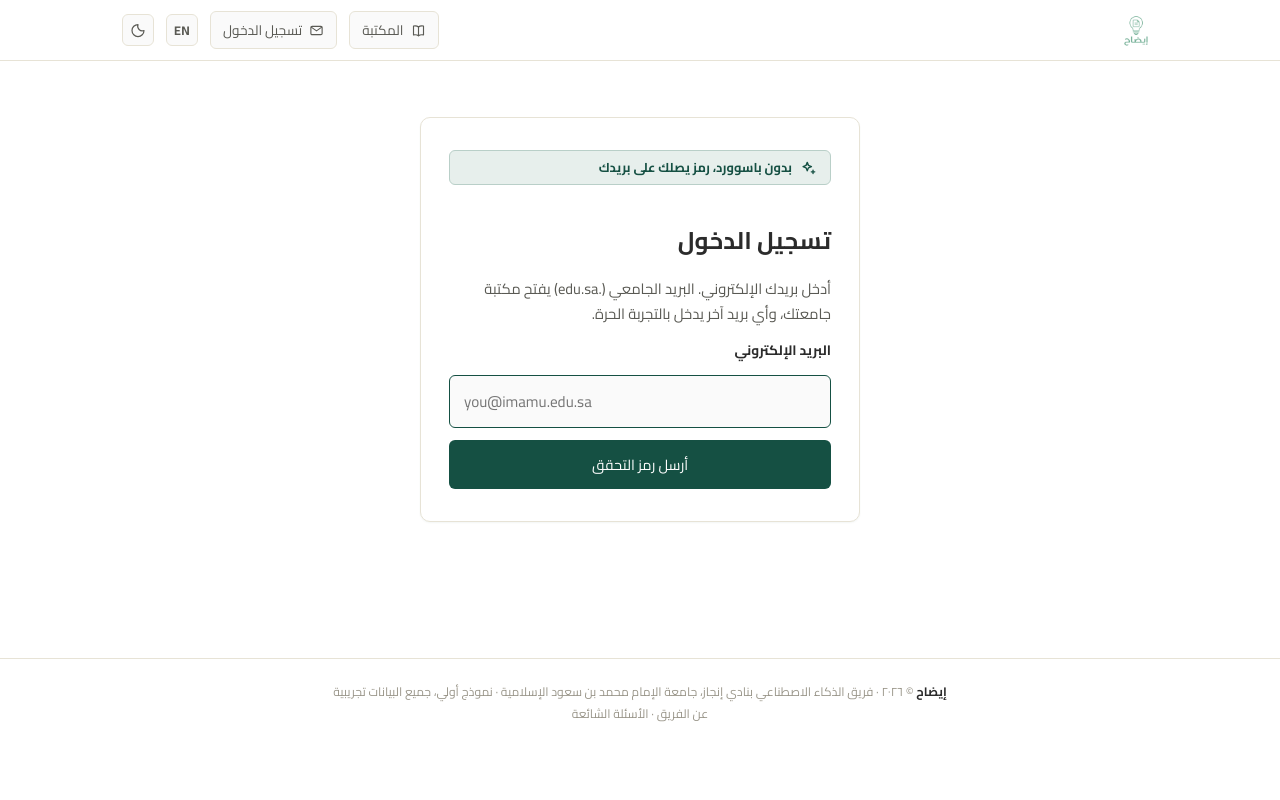
it: إرسال الإيميل ينقل لخطوة الرمز ويظهر تنبيه الإرسال
Type "student@imamu.edu.sa" into the field labelled "البريد الإلكتروني" at point(640, 401), box [449, 375, 831, 428]
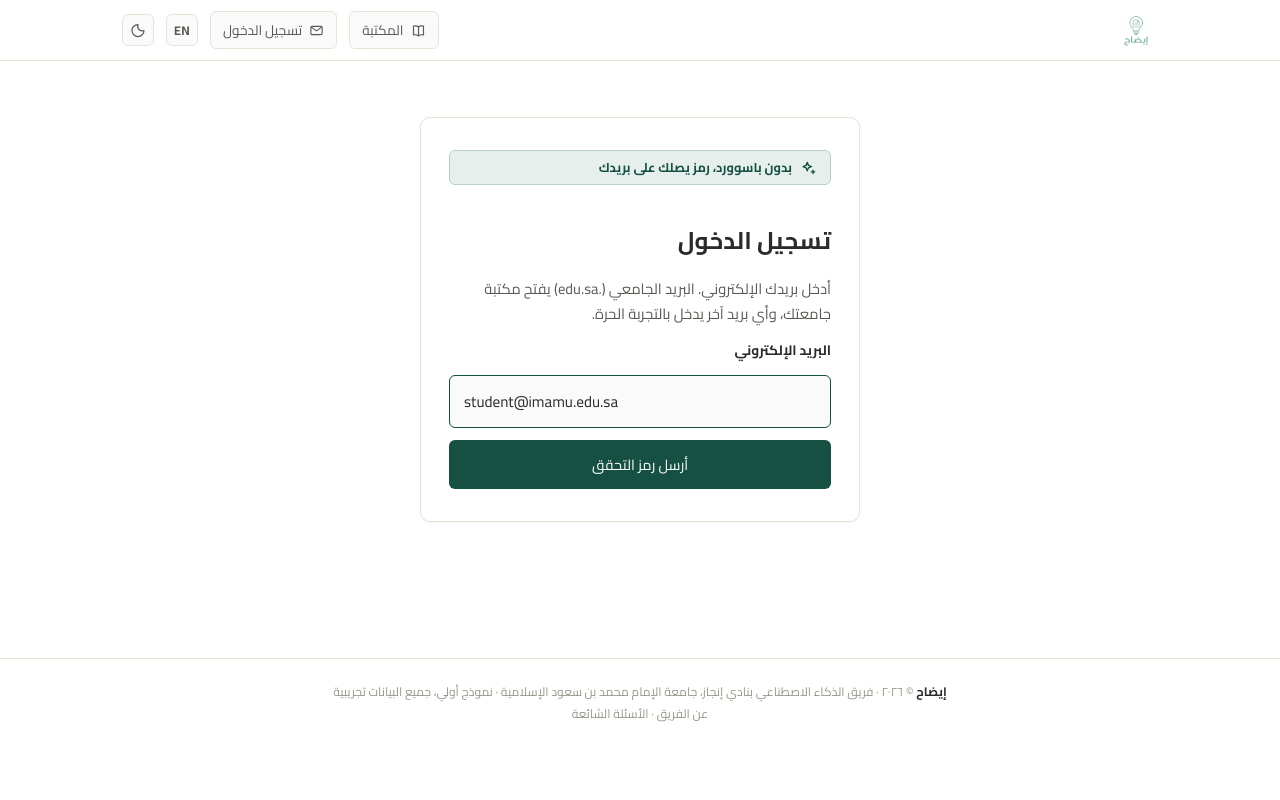
Click the button "أرسل رمز التحقق" at point(640, 464), box [449, 440, 831, 489]
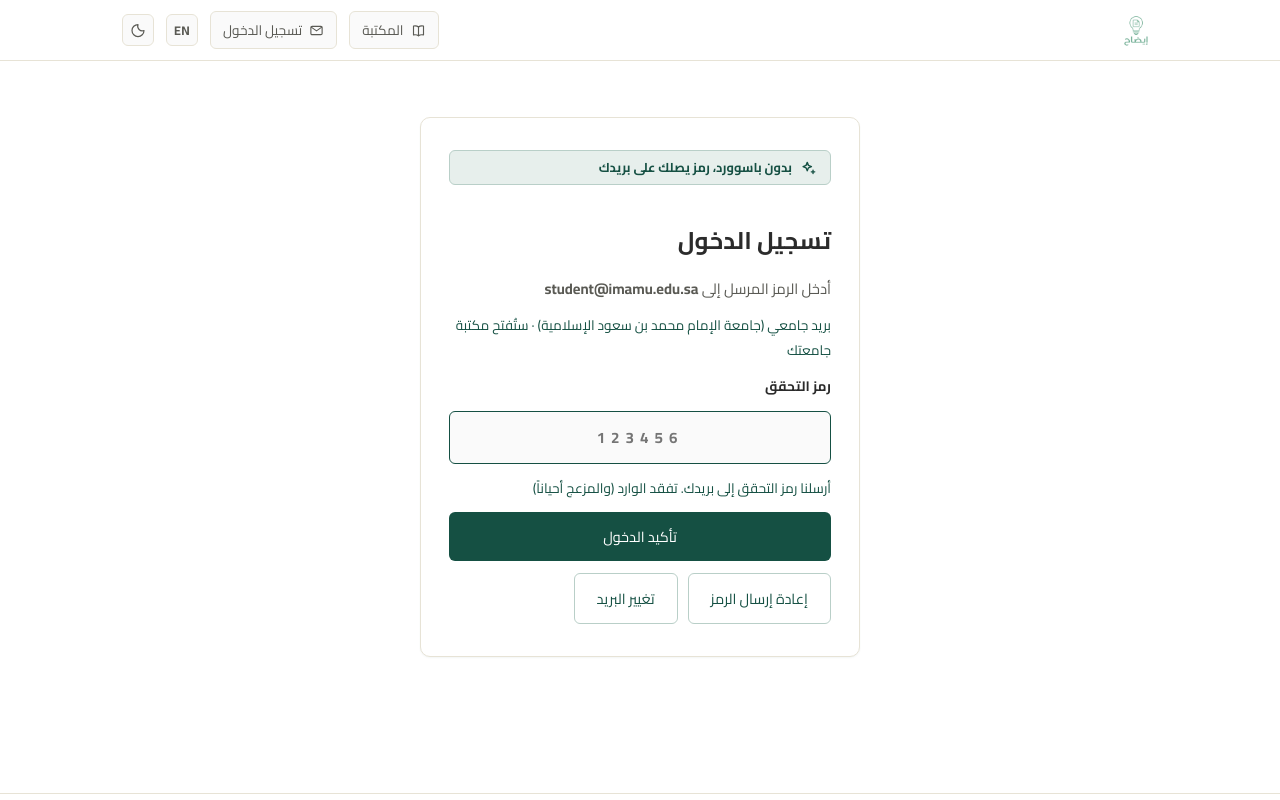
Now the field labelled "رمز التحقق" is shown, box [449, 411, 831, 464]
Now the text "أرسلنا رمز التحقق إلى بريدك. تفقد الوارد (والمزعج أحياناً)" is shown, box [533, 475, 831, 501]
